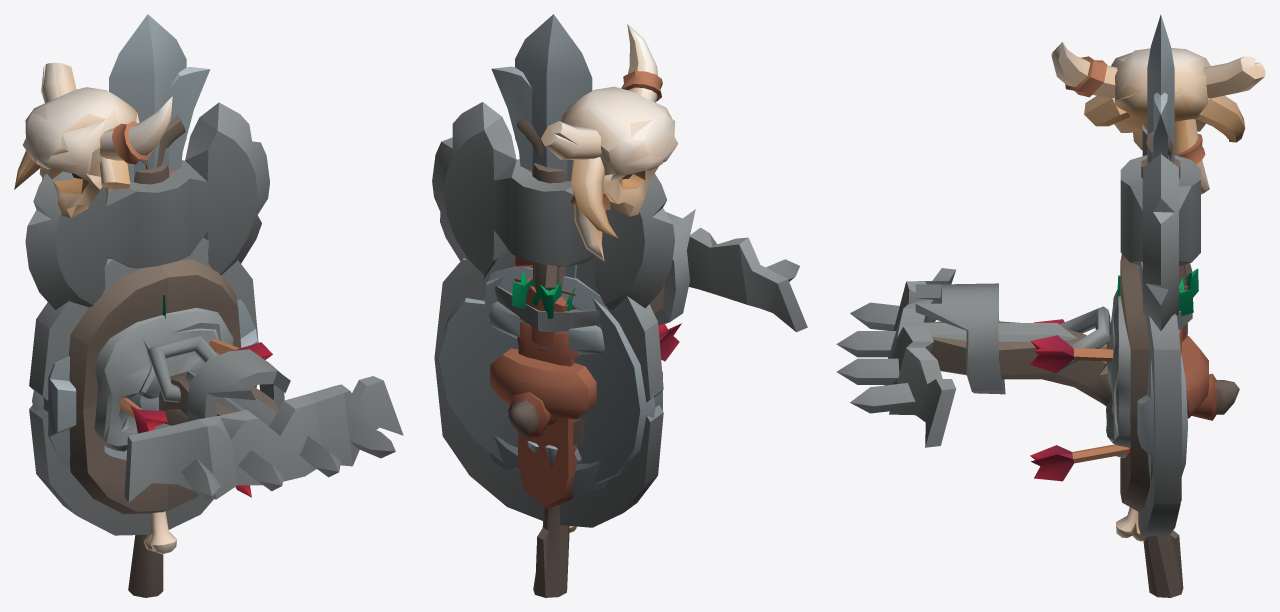
File: gear.glb
3 renders of one model, left to right at view 1: azimuth 30°, elevation 25°; view 2: azimuth 150°, elevation 25°; view 3: azimuth 270°, elevation 25°, orthographic.
Visible parts, largest first — view 1: Skeleton_Shield_Large_A, Skeleton_Crossbow, Skeleton_Axe, Skeleton_Staff, sword_1handed, Skeleton_Shield_Small_A, Skeleton_Blade, Skeleton_Shield_Small_B, shield_round_color; view 2: Skeleton_Axe, Skeleton_Shield_Large_A, Skeleton_Staff, shield_round_color, Skeleton_Crossbow, sword_1handed, quiver, Skeleton_Blade, Skeleton_Shield_Small_A, arrow_bundle, Skeleton_Shield_Small_B; view 3: Skeleton_Crossbow, Skeleton_Shield_Large_A, Skeleton_Staff, Skeleton_Axe, Skeleton_Shield_Small_B, sword_1handed, Skeleton_Shield_Small_A, Skeleton_Blade, arrow_bundle, shield_round_color.
Part boxes in pixels (x1,y1,x2,y2): Skeleton_Shield_Large_A: [29, 238, 258, 535]; Skeleton_Crossbow: [124, 335, 403, 502]; Skeleton_Axe: [25, 102, 269, 310]; Skeleton_Staff: [14, 62, 185, 597]; sword_1handed: [109, 14, 186, 178]; Skeleton_Shield_Small_A: [43, 299, 257, 466]; Skeleton_Blade: [128, 67, 210, 181]; Skeleton_Shield_Small_B: [119, 339, 272, 497]; shield_round_color: [32, 390, 158, 460]; Skeleton_Axe: [432, 102, 674, 347]; Skeleton_Shield_Large_A: [434, 247, 663, 527]; Skeleton_Staff: [516, 24, 678, 597]; shield_round_color: [439, 276, 655, 484]; Skeleton_Crossbow: [508, 209, 807, 438]; sword_1handed: [488, 14, 604, 354]; quiver: [517, 274, 580, 508]; Skeleton_Blade: [491, 66, 599, 462]; Skeleton_Shield_Small_A: [482, 266, 662, 493]; arrow_bundle: [512, 271, 571, 468]; Skeleton_Shield_Small_B: [658, 323, 681, 361]; Skeleton_Crossbow: [836, 268, 1239, 447]; Skeleton_Shield_Large_A: [1106, 254, 1208, 536]; Skeleton_Staff: [1051, 42, 1265, 597]; Skeleton_Axe: [1120, 124, 1200, 341]; Skeleton_Shield_Small_B: [1030, 319, 1129, 481]; sword_1handed: [1147, 14, 1179, 335]; Skeleton_Shield_Small_A: [1137, 357, 1154, 481]; Skeleton_Blade: [1153, 92, 1192, 329]; arrow_bundle: [1117, 268, 1198, 316]; shield_round_color: [1127, 323, 1187, 477].
Bounding box in the file's own units: 1.11 × 2.26 × 1.51.
Materials: 3 (3 with a texture image).
